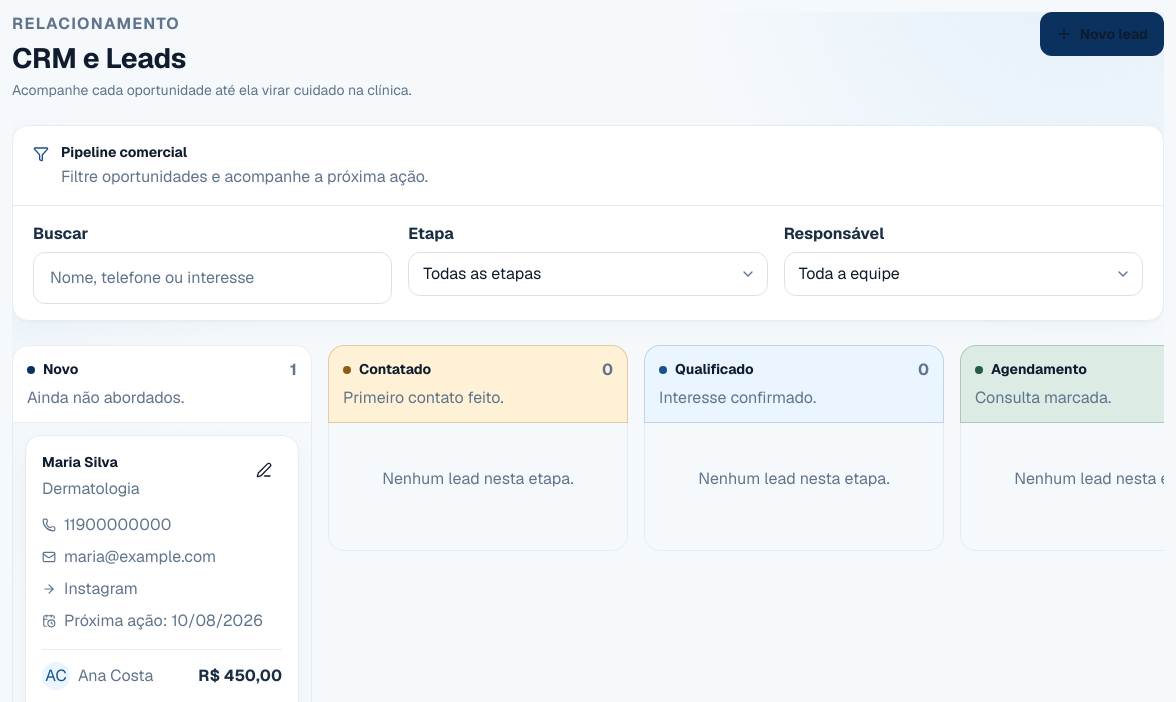
Test: LeadsScreen › filtra por busca sem alterar o conjunto original
This screenshot has width=1176, height=702.
Step 1. Type "telefone inexistente" into the field labelled "Buscar" → (213, 278), box [33,252,392,304]
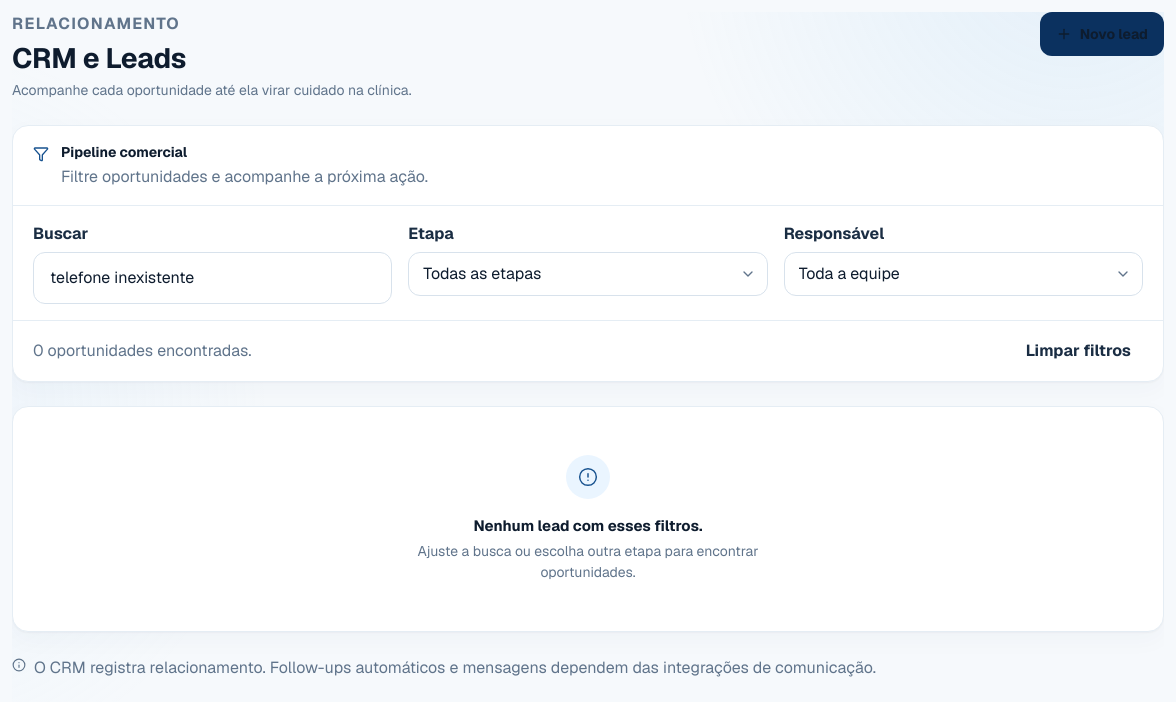
Expected: the text "Nenhum lead com esses filtros." is shown, [474,515,703,537]
Expected: the button "Maria Silva" is gone
